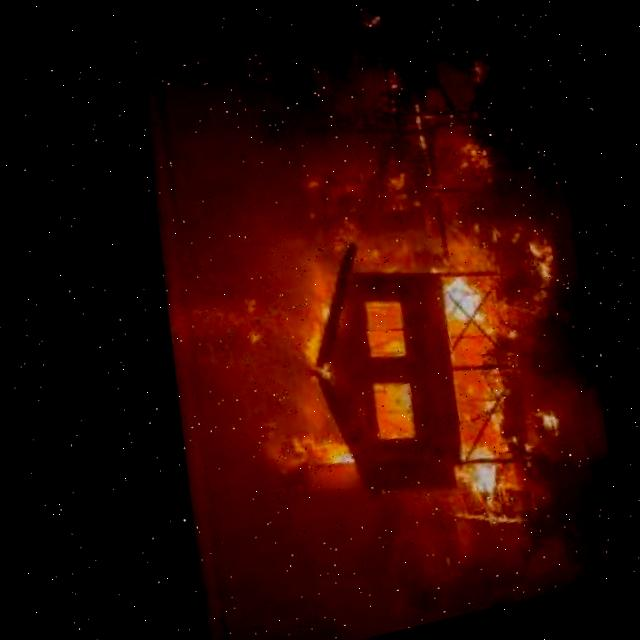fire: (383, 251, 568, 541), (236, 269, 440, 494)
